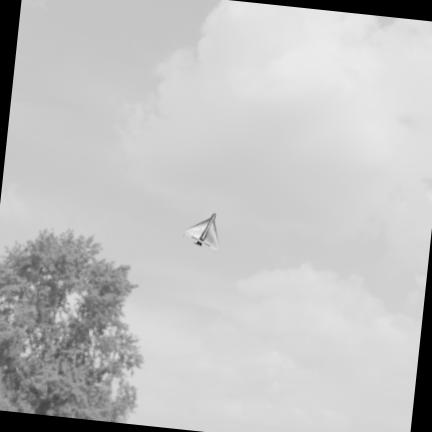Shahed: (185, 215, 219, 250)
